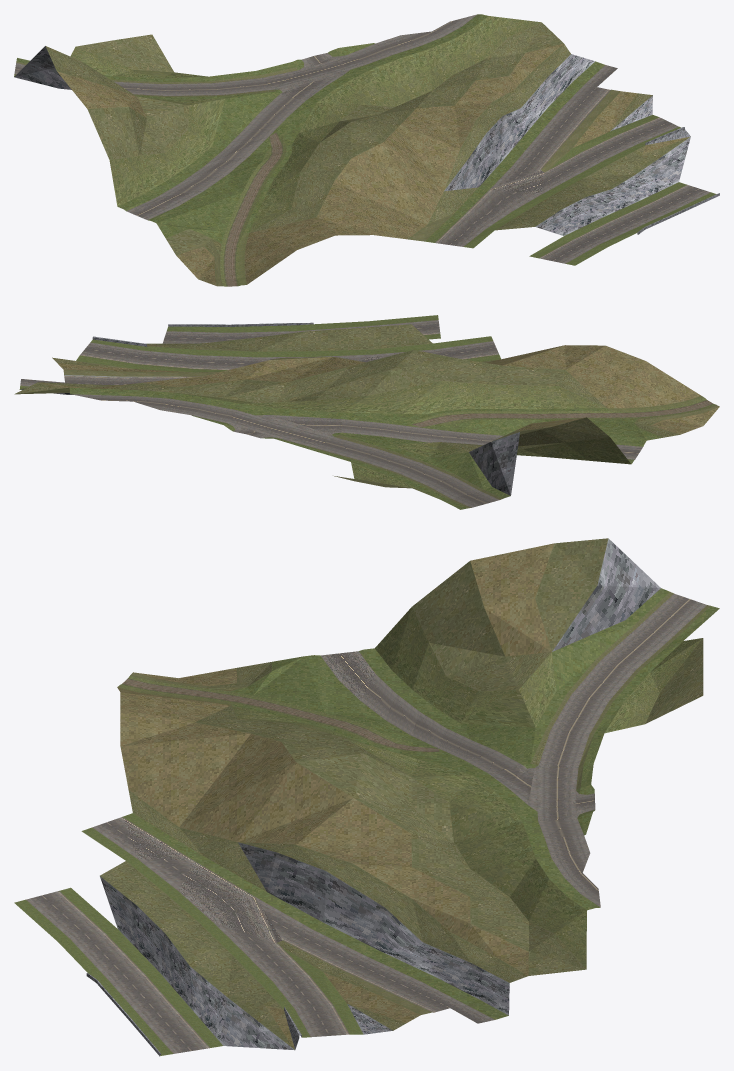
Rendered from nw_lodbit_29.obj.
The picture shows the model from 3 angles, top to bottom: view 1: azimuth 30°, elevation 25°; view 2: azimuth 150°, elevation 25°; view 3: azimuth 270°, elevation 25°; orthographic projection. The views are drawn at different scales.
Visible parts, largest first — view 1: nw_lodbit_29; view 2: nw_lodbit_29; view 3: nw_lodbit_29.
Part boxes in pixels (x1,y1,x2,y2): nw_lodbit_29: (14,14,719,286); nw_lodbit_29: (14,315,719,509); nw_lodbit_29: (14,538,719,1056).
Size of the model in its own units: 250 by 65.11 by 214.
Materials: 17 (17 with a texture image).
